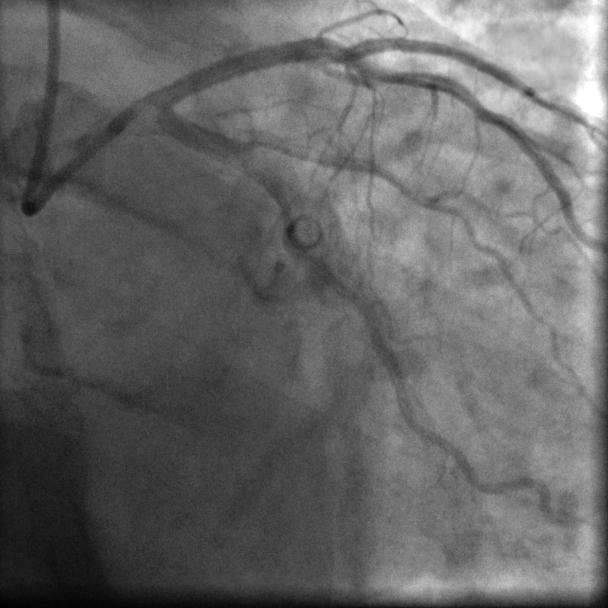Stenosis: (242, 129, 279, 160)
